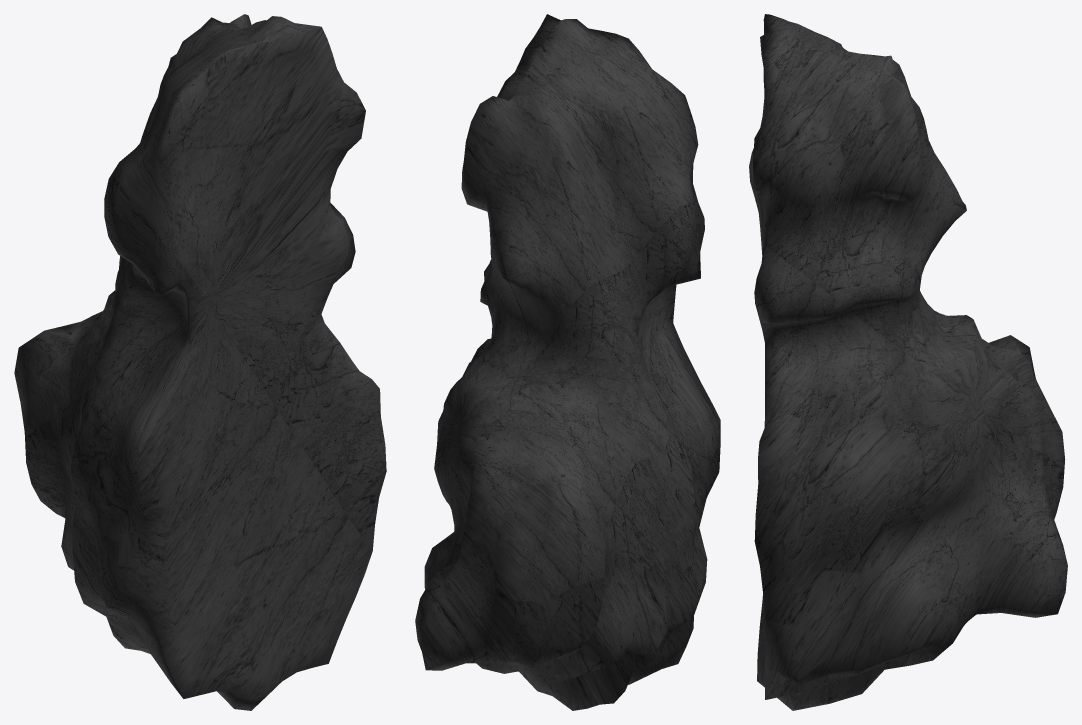
File: RockM.fbx
3 renders of one model, left to right at view 1: azimuth 30°, elevation 25°; view 2: azimuth 150°, elevation 25°; view 3: azimuth 270°, elevation 25°, orthographic. The views are drawn at different scales.
Parts seen in each view (by area): view 1: Cube; view 2: Cube; view 3: Cube.
Part boxes in pixels (bbox=[...]): Cube: bbox=[14, 14, 386, 710]; Cube: bbox=[415, 14, 720, 710]; Cube: bbox=[749, 14, 1067, 710].
Bounding box in the file's own units: 411 × 1010 × 420.
1 material, 1 textured.
